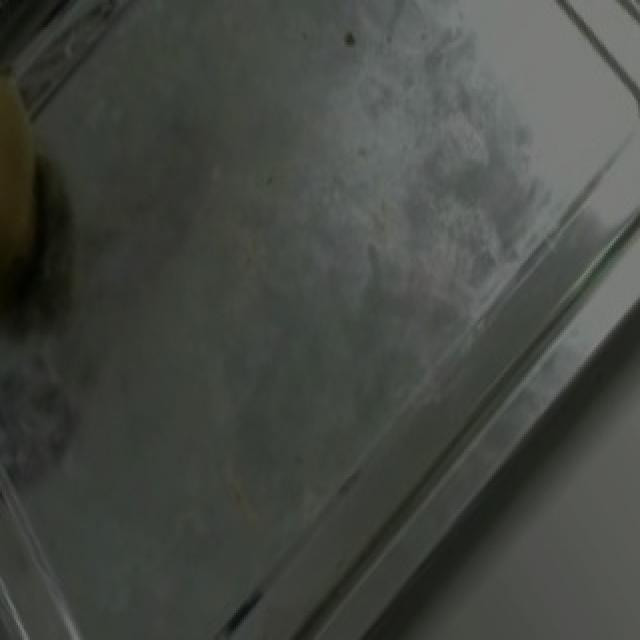Fruit: (0, 38, 84, 328)
